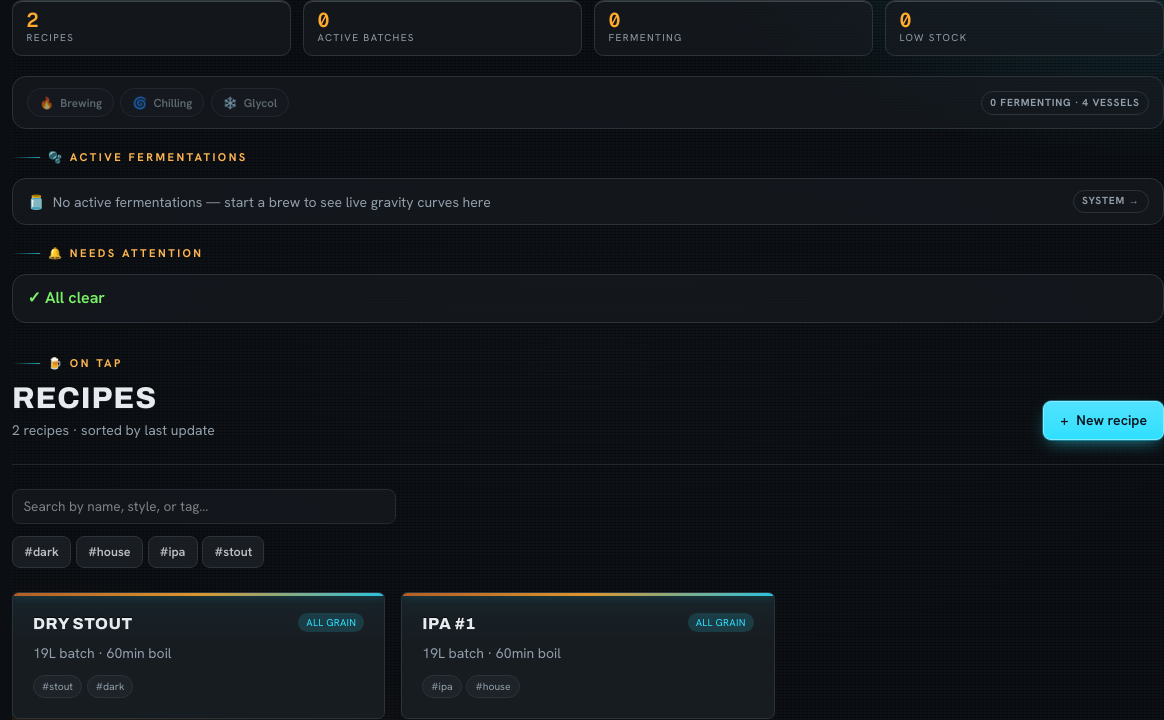
RecipeListView › filters by toggling a tag chip (AND semantics)
Expected: the heading "IPA #1" is shown, [422,613,476,635]
Click the button "#ipa" at (172, 552), box [148,536,198,568]
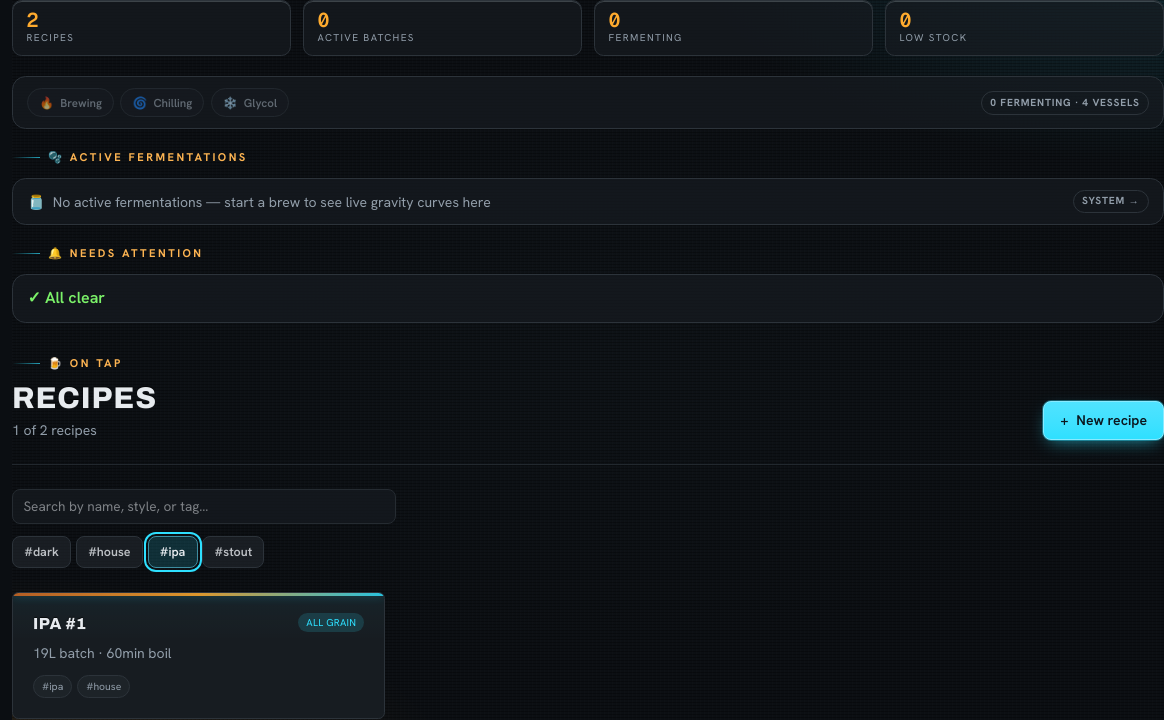
Expected: the heading "IPA #1" is shown, [33,613,86,635]
Expected: the link "Dry Stout" is gone
Expected: the text "1 of 2 recipes" is shown, [12,420,97,438]
